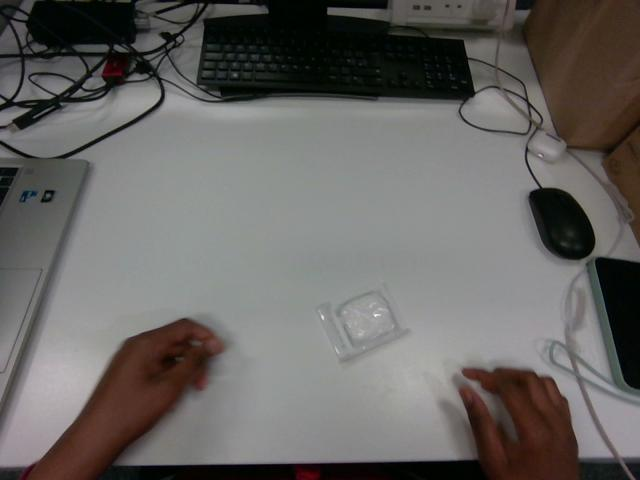gauze: (316, 282, 408, 361)
